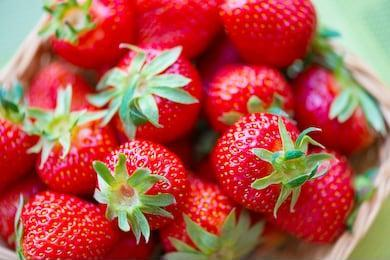Fresa: (203, 109, 307, 220), (99, 43, 207, 144), (29, 103, 130, 205), (147, 164, 252, 260), (97, 135, 190, 235), (10, 184, 124, 260)
